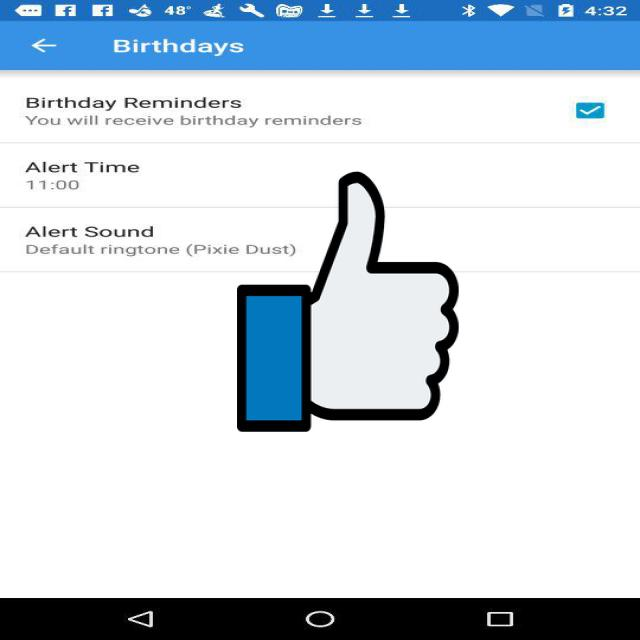privacy zuckering: (237, 166, 459, 437)
